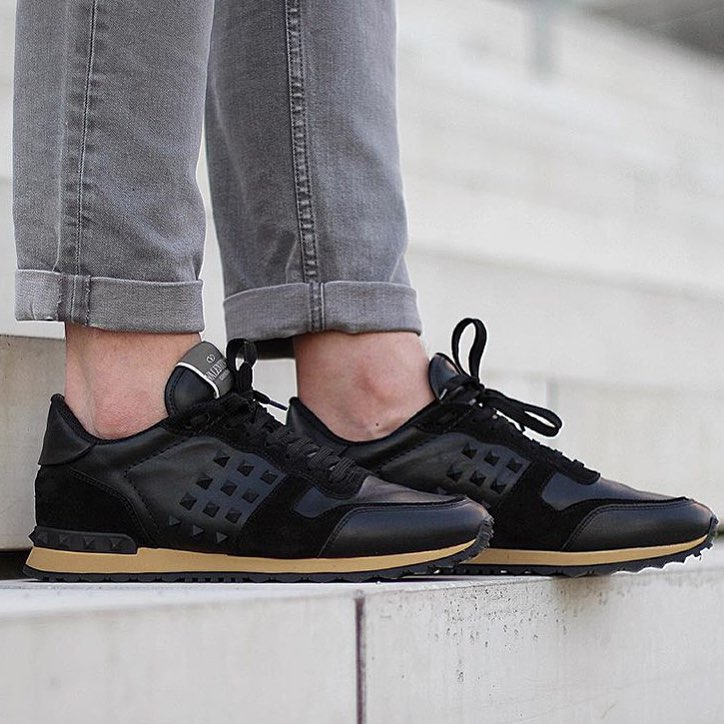sneaker: (1, 272, 504, 596), (215, 271, 724, 588)
